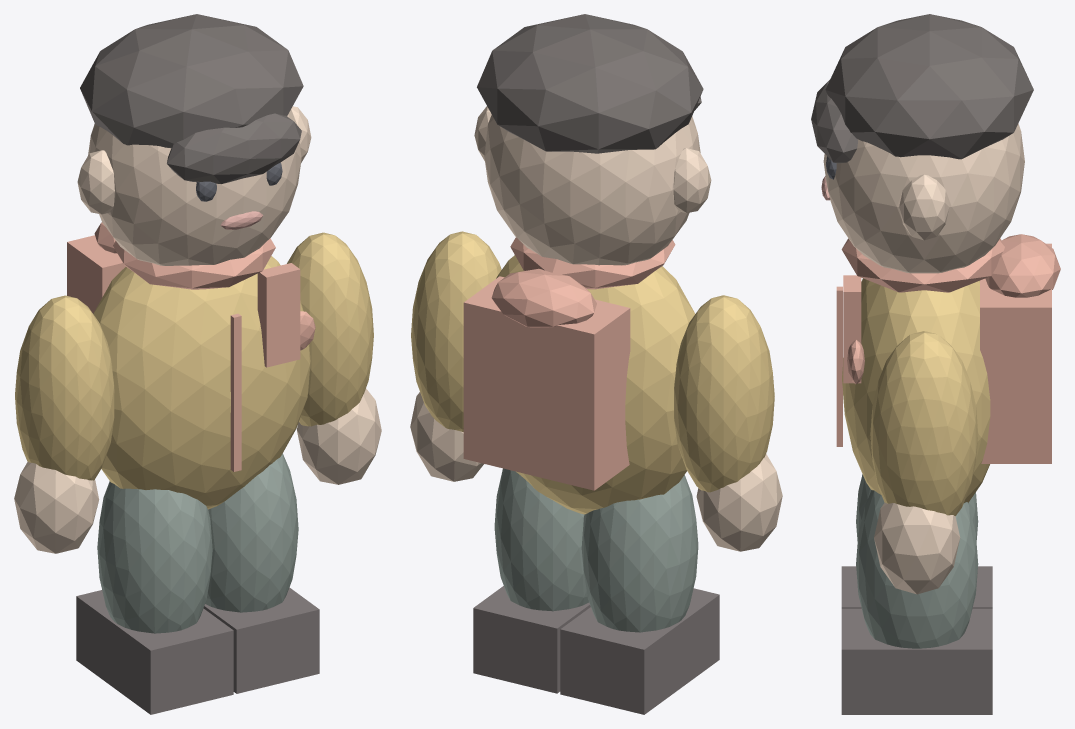
The model's file is witness_03.glb.
The picture shows the model from 3 angles, left to right: view 1: azimuth 30°, elevation 25°; view 2: azimuth 150°, elevation 25°; view 3: azimuth 270°, elevation 25°; orthographic projection.
Parts seen in each view (by area): view 1: torso, hair_cap, head, left_upper_arm, left_leg, left_boot, right_upper_arm, right_leg, right_boot, hair_fringe, left_hand, right_hand (+5 smaller); view 2: backpack, hair_cap, head, left_upper_arm, torso, left_leg, left_boot, right_upper_arm, right_leg, right_boot, left_hand, backpack_roll (+3 smaller); view 3: hair_cap, head, right_upper_arm, right_boot, torso, backpack, right_leg, right_hand, backpack_roll, scarf_wrap, right_ear, hair_fringe (+5 smaller).
Boxes of the visible parts, <box> form: torso: <box>93,256,310,509</box>; hair_cap: <box>80,14,303,148</box>; head: <box>88,109,301,265</box>; left_upper_arm: <box>15,295,114,480</box>; left_leg: <box>97,481,212,633</box>; left_boot: <box>76,590,233,714</box>; right_upper_arm: <box>287,232,373,426</box>; right_leg: <box>205,453,298,612</box>; right_boot: <box>203,587,319,693</box>; hair_fringe: <box>167,113,301,184</box>; left_hand: <box>14,462,99,553</box>; right_hand: <box>296,388,381,484</box>; backpack: <box>463,276,630,490</box>; hair_cap: <box>477,14,703,153</box>; head: <box>484,115,700,265</box>; left_upper_arm: <box>674,295,774,492</box>; torso: <box>496,255,695,514</box>; left_leg: <box>581,475,698,632</box>; left_boot: <box>560,588,719,714</box>; right_upper_arm: <box>411,231,501,431</box>; right_leg: <box>494,468,588,611</box>; right_boot: <box>473,586,590,693</box>; left_hand: <box>696,454,782,551</box>; backpack_roll: <box>491,268,596,327</box>; hair_cap: <box>825,14,1033,159</box>; head: <box>823,123,1024,273</box>; right_upper_arm: <box>870,331,978,515</box>; right_boot: <box>841,608,992,714</box>; torso: <box>842,278,990,502</box>; backpack: <box>980,243,1051,463</box>; right_leg: <box>856,490,978,648</box>; right_hand: <box>874,502,960,594</box>; backpack_roll: <box>985,234,1060,297</box>; scarf_wrap: <box>841,238,1004,292</box>; right_ear: <box>899,174,949,240</box>; hair_fringe: <box>811,80,857,163</box>.
Bounding box in the file's own units: 1.16 × 1.97 × 0.695.
